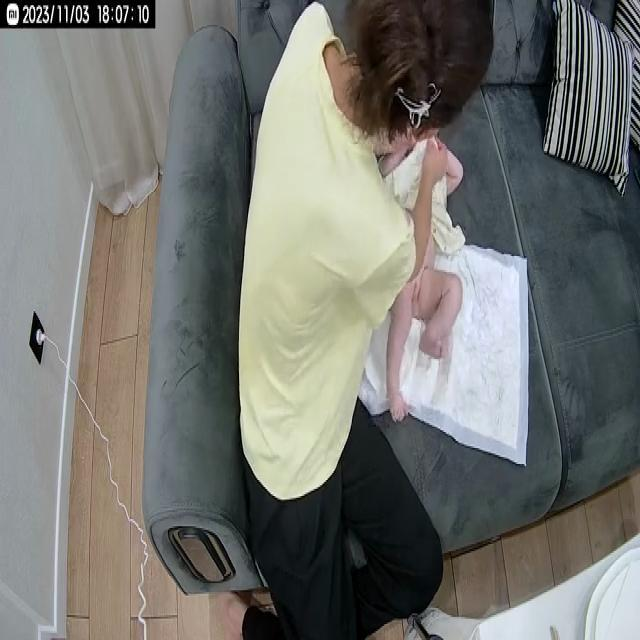baby: (372, 112, 474, 434)
